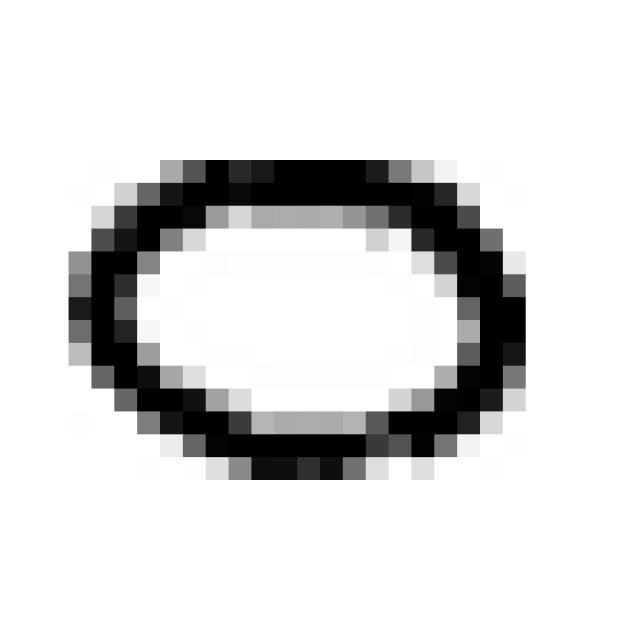5 -five-: (55, 140, 544, 494)
